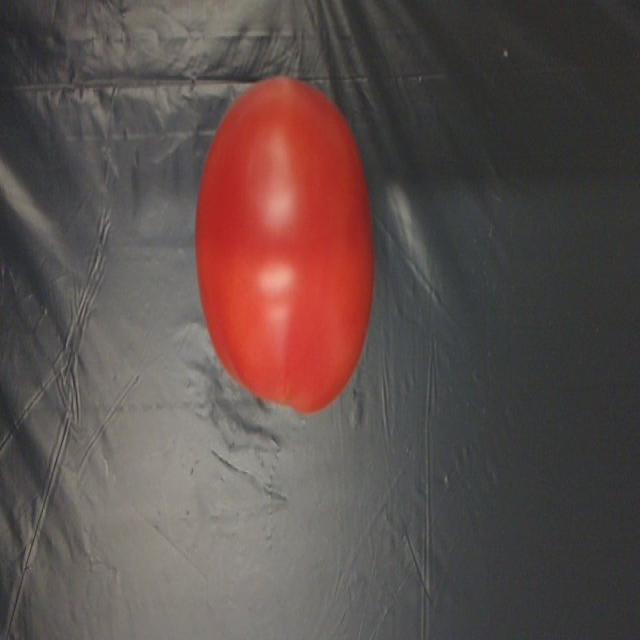kirmizi: (173, 70, 403, 434)
